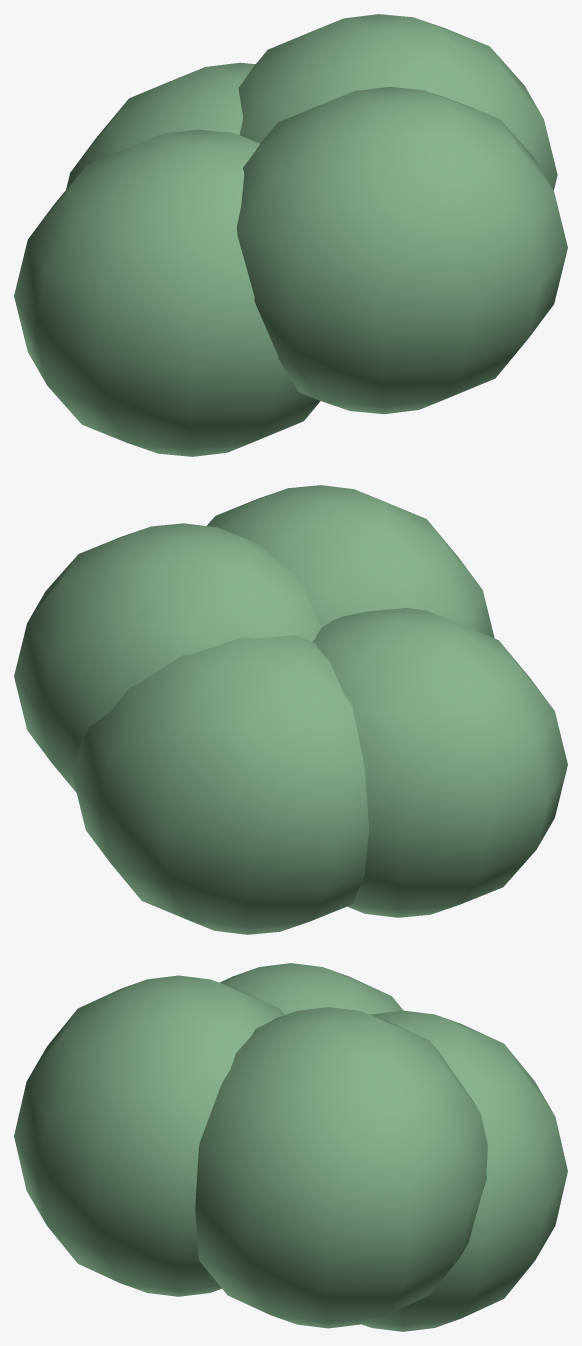
The model's file is shrub.glb.
The picture shows the model from 3 angles, top to bottom: view 1: azimuth 30°, elevation 25°; view 2: azimuth 150°, elevation 25°; view 3: azimuth 270°, elevation 25°; orthographic projection. The views are drawn at different scales.
Visible parts, largest first — view 1: shrub_Palette; view 2: shrub_Palette; view 3: shrub_Palette.
Part boxes in pixels (bbox=[...]): shrub_Palette: bbox=[14, 14, 567, 456]; shrub_Palette: bbox=[14, 485, 567, 934]; shrub_Palette: bbox=[14, 963, 567, 1331].
Size of the model in its own units: 1.56 by 0.99 by 1.48.
